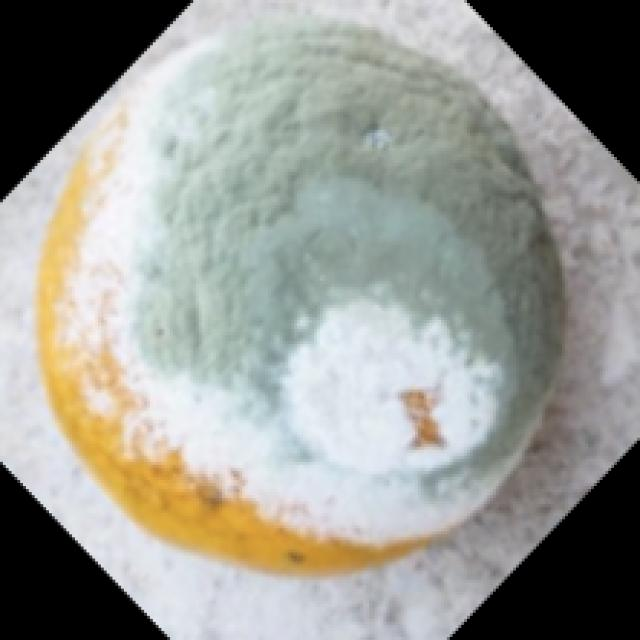sangat_busuk: (31, 15, 551, 580)
